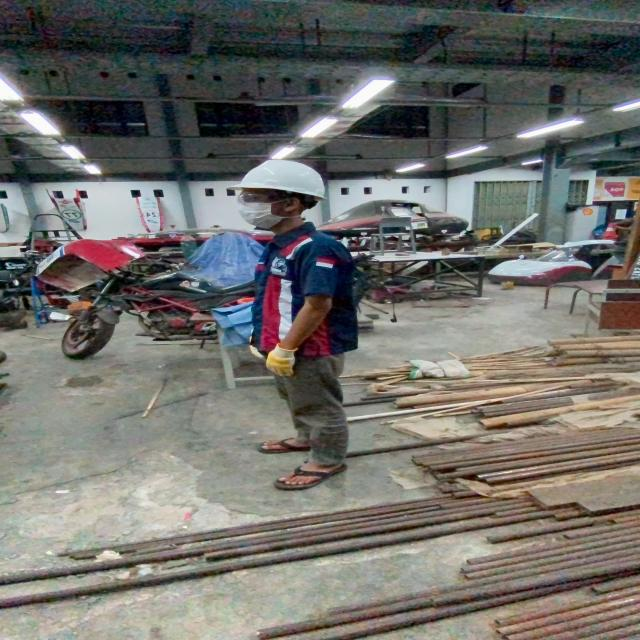face_mask: (228, 190, 288, 229)
glasses: (234, 192, 281, 206)
hand_glove: (260, 342, 300, 378)
head_helmet: (224, 157, 332, 201)
person: (212, 156, 378, 498)
